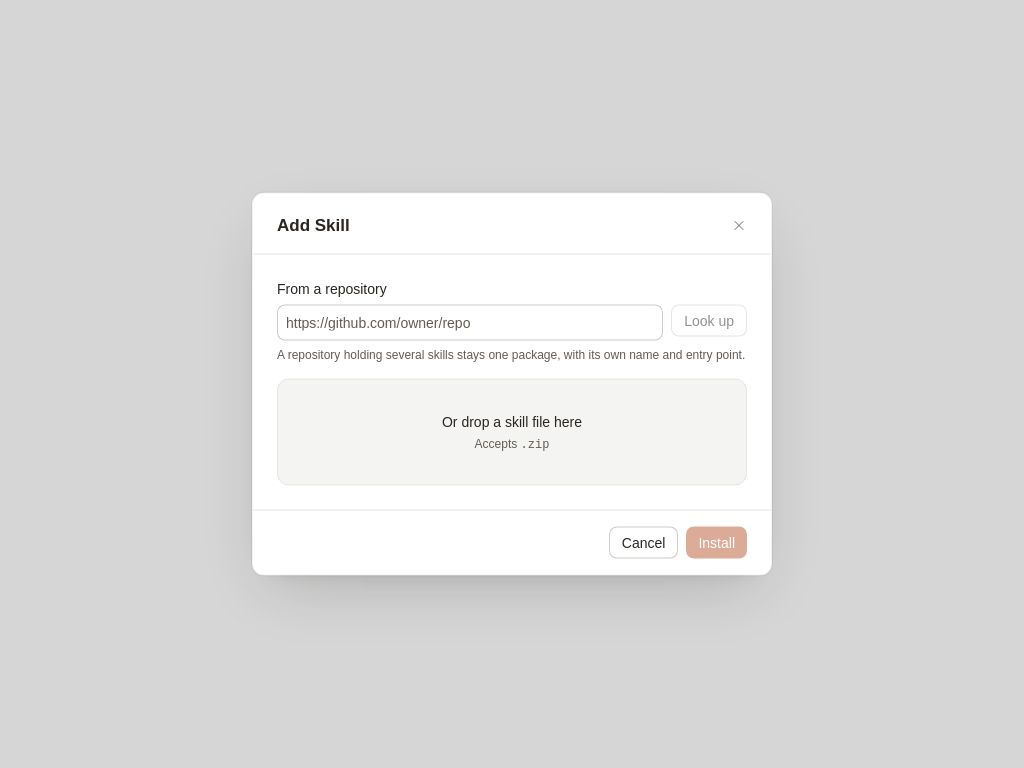
Test: AddSkillModal › reports a source it could not read, and installs nothing
This screenshot has width=1024, height=768.
Type "https://example.com/x.zip" into the field with placeholder "https://github.com/owner/repo". click: (470, 322)
box: 277,304 -> 663,340
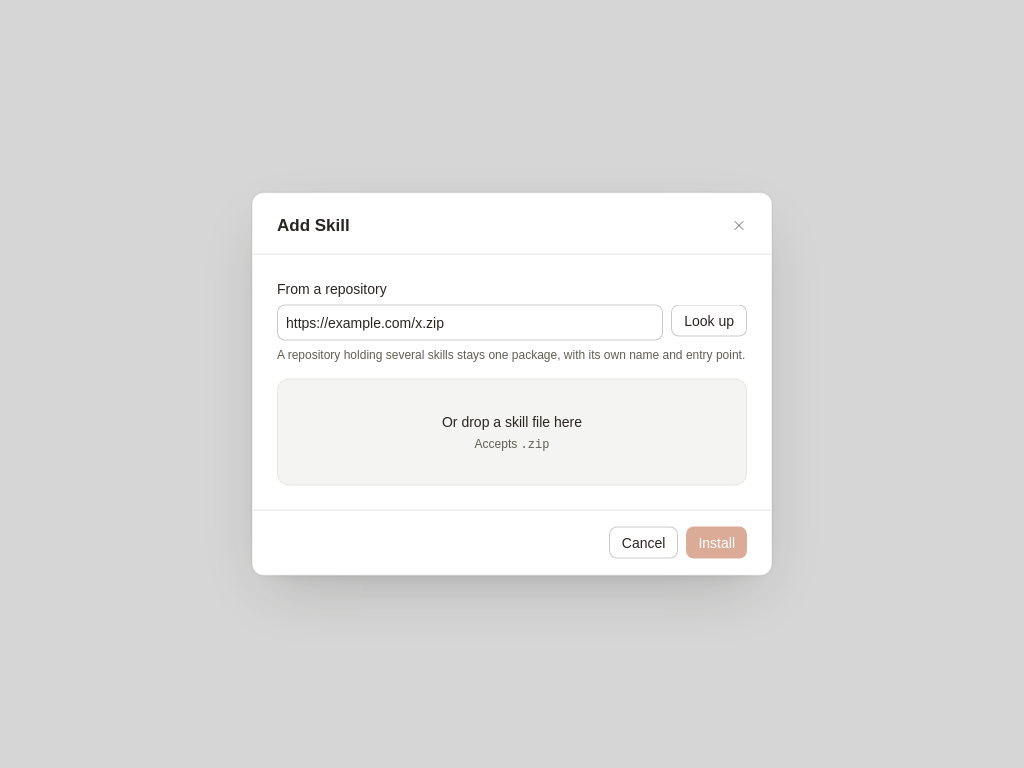
Click the button "Look up". click: (709, 320)
box: 671,304 -> 747,336
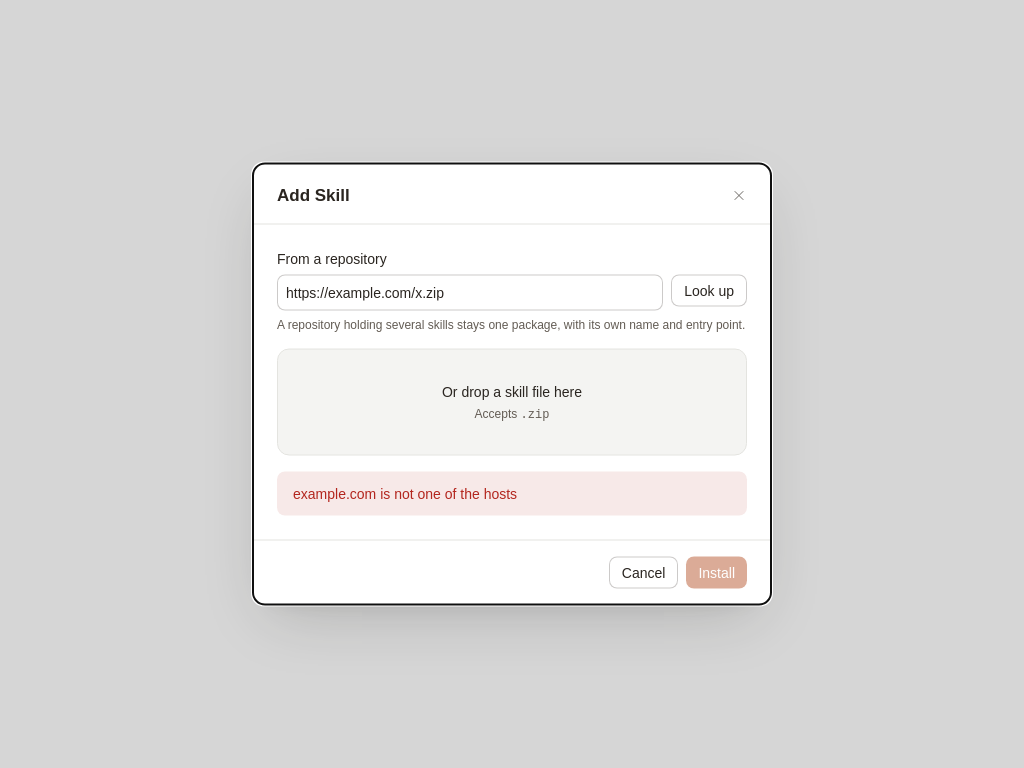
Expected: the text "example.com is not one of the hosts" is shown, 277,472 -> 747,516
